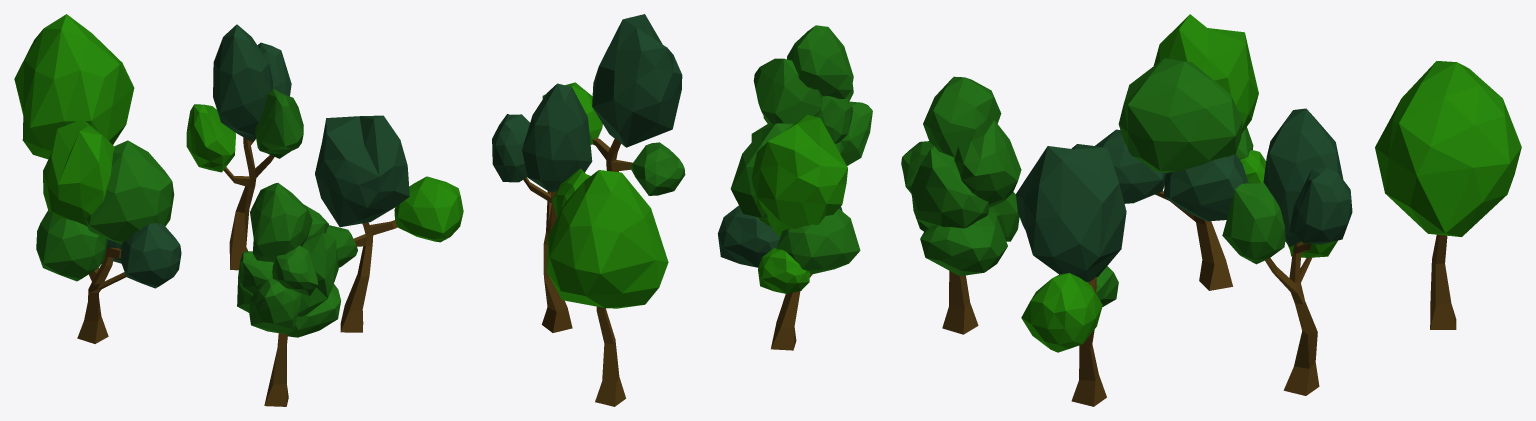
File: Trees.fbx
The picture shows the model from 3 angles, left to right: view 1: azimuth 30°, elevation 25°; view 2: azimuth 150°, elevation 25°; view 3: azimuth 270°, elevation 25°; orthographic projection. The views are drawn at different scales.
Parts seen in each view (by area): view 1: Icosphere.014, Icosphere.013, Icosphere.011, Icosphere.003, Icosphere.001, Icosphere.006, Icosphere.004, Icosphere.010, Icosphere, Icosphere.008, Icosphere.009, Cube.002 (+5 smaller); view 2: Icosphere.013, Icosphere.014, Icosphere.011, Icosphere.001, Icosphere.006, Icosphere.004, Icosphere.005, Icosphere.012, Icosphere.007, Icosphere.003, Cube.001, Icosphere.002 (+5 smaller); view 3: Icosphere.013, Icosphere.014, Icosphere.011, Icosphere.003, Icosphere.001, Icosphere.006, Icosphere.010, Icosphere.009, Icosphere.005, Icosphere.007, Cube.001, Icosphere (+6 smaller).
Boxes of the visible parts, bbox=[...] form: Icosphere.014: bbox=[237, 183, 340, 337]; Icosphere.013: bbox=[14, 14, 134, 159]; Icosphere.011: bbox=[315, 115, 409, 227]; Icosphere.003: bbox=[86, 140, 174, 244]; Icosphere.001: bbox=[43, 119, 114, 226]; Icosphere.006: bbox=[213, 24, 272, 142]; Icosphere.004: bbox=[36, 210, 107, 281]; Icosphere.010: bbox=[394, 176, 463, 242]; Icosphere: bbox=[120, 222, 181, 288]; Icosphere.008: bbox=[186, 104, 235, 172]; Icosphere.009: bbox=[254, 89, 303, 158]; Cube.002: bbox=[340, 220, 397, 332]; Icosphere.013: bbox=[546, 170, 668, 308]; Icosphere.014: bbox=[751, 25, 872, 165]; Icosphere.011: bbox=[592, 14, 682, 147]; Icosphere.001: bbox=[752, 115, 847, 236]; Icosphere.006: bbox=[522, 83, 592, 192]; Icosphere.004: bbox=[776, 209, 860, 274]; Icosphere.005: bbox=[717, 205, 780, 267]; Icosphere.012: bbox=[630, 142, 685, 195]; Icosphere.007: bbox=[492, 114, 529, 182]; Icosphere.003: bbox=[730, 122, 794, 218]; Cube.001: bbox=[523, 177, 572, 332]; Icosphere.002: bbox=[758, 248, 809, 293]; Icosphere.013: bbox=[1375, 61, 1521, 236]; Icosphere.014: bbox=[901, 76, 1021, 276]; Icosphere.011: bbox=[1016, 144, 1126, 281]; Icosphere.003: bbox=[1118, 58, 1242, 173]; Icosphere.001: bbox=[1153, 14, 1258, 133]; Icosphere.006: bbox=[1263, 108, 1343, 246]; Icosphere.010: bbox=[1021, 273, 1102, 352]; Icosphere.009: bbox=[1222, 182, 1285, 264]; Icosphere.005: bbox=[1163, 154, 1248, 221]; Icosphere.007: bbox=[1289, 168, 1352, 244]; Cube.001: bbox=[1265, 241, 1319, 395]; Icosphere: bbox=[1095, 129, 1165, 203].
Size of the model in its own units: 5708 by 3630 by 7276.
